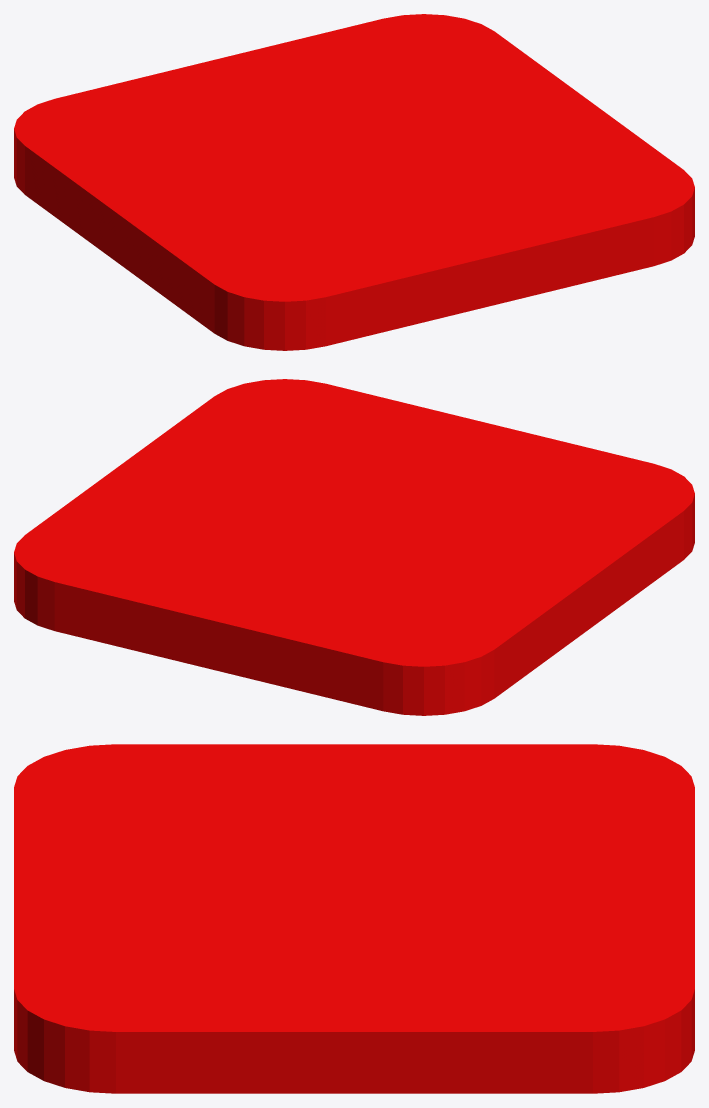
Rendered from wrs_fcsc_movie.dae.
3 renders of one model, top to bottom at view 1: azimuth 30°, elevation 25°; view 2: azimuth 150°, elevation 25°; view 3: azimuth 270°, elevation 25°, orthographic. The views are drawn at different scales.
Parts seen in each view (by area): view 1: Cube; view 2: Cube; view 3: Cube.
Boxes of the visible parts, x1=… form: Cube: x1=14, y1=14, x2=694, y2=350; Cube: x1=14, y1=379, x2=694, y2=715; Cube: x1=14, y1=744, x2=694, y2=1093.
Bounding box in the file's own units: 0.2 × 0.2 × 0.0299.
